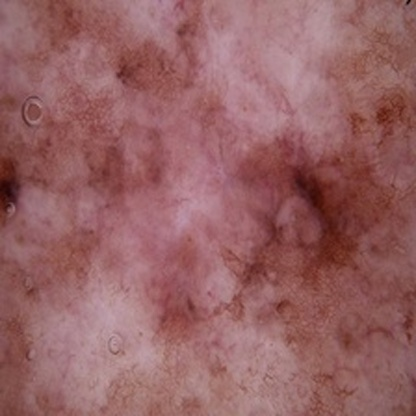malignant: (1, 19, 204, 275), (144, 304, 416, 415), (232, 145, 360, 278)
